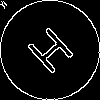H: (25, 25, 83, 83)
